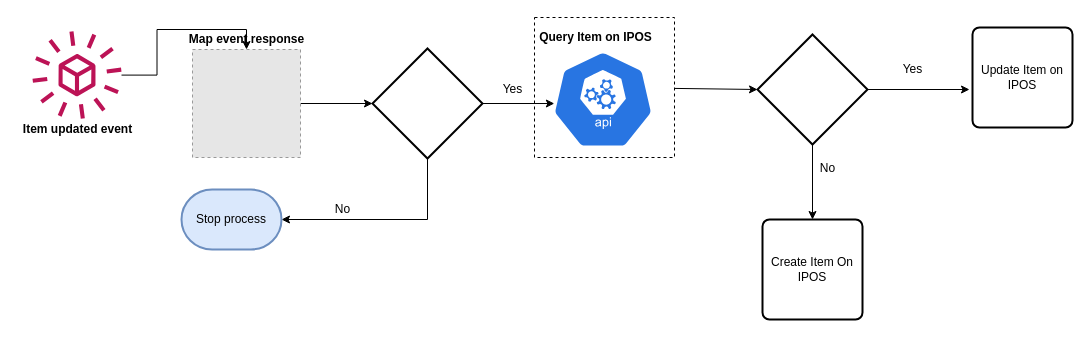
Image size: 1091x338. Some labels were removed from this diagram. Grey dashed boxes stand in for pictures. The centre of each missing label's shape, as x and y in pixels:
"Has IPOS flag?" goes at point 427,103.
"Item exists ?" goes at point 812,89.
